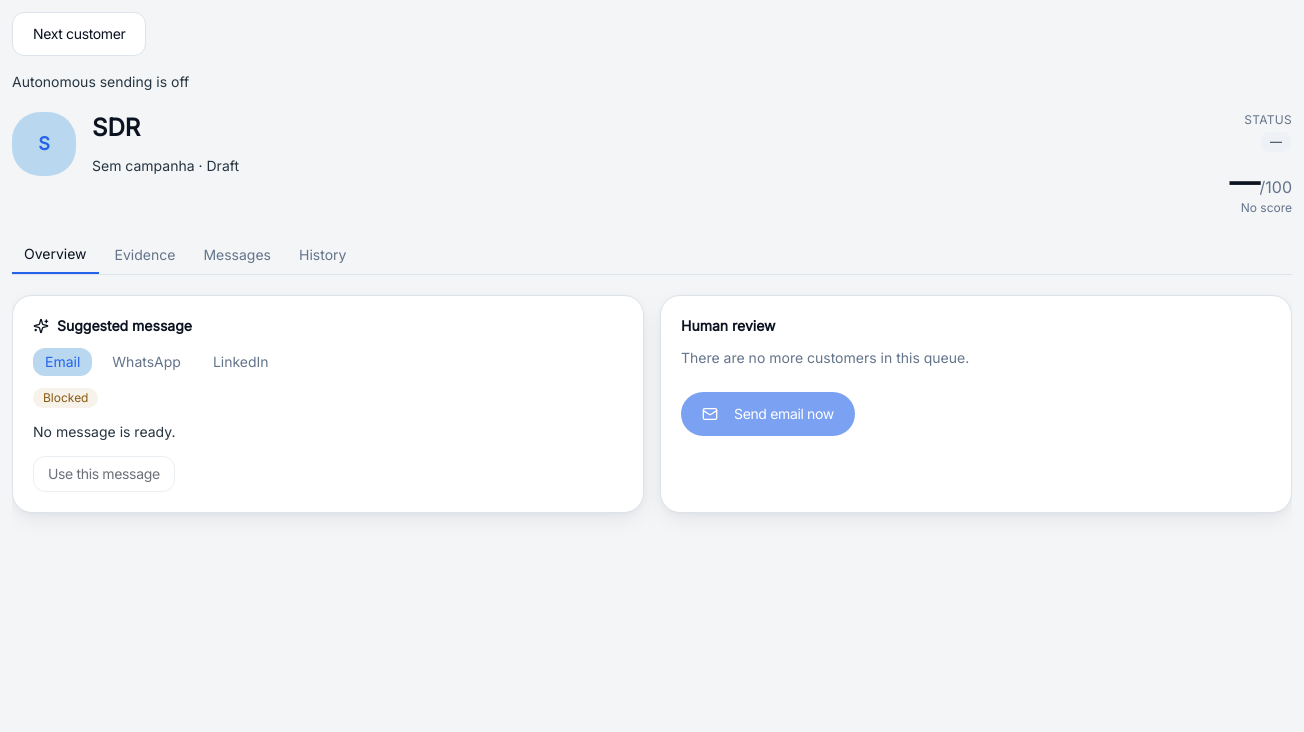
Test: SdrPage › displays the execution error when running the next customer fails in en
Click the button "Next customer" at {"x": 79, "y": 34}, box [12,12,146,56]
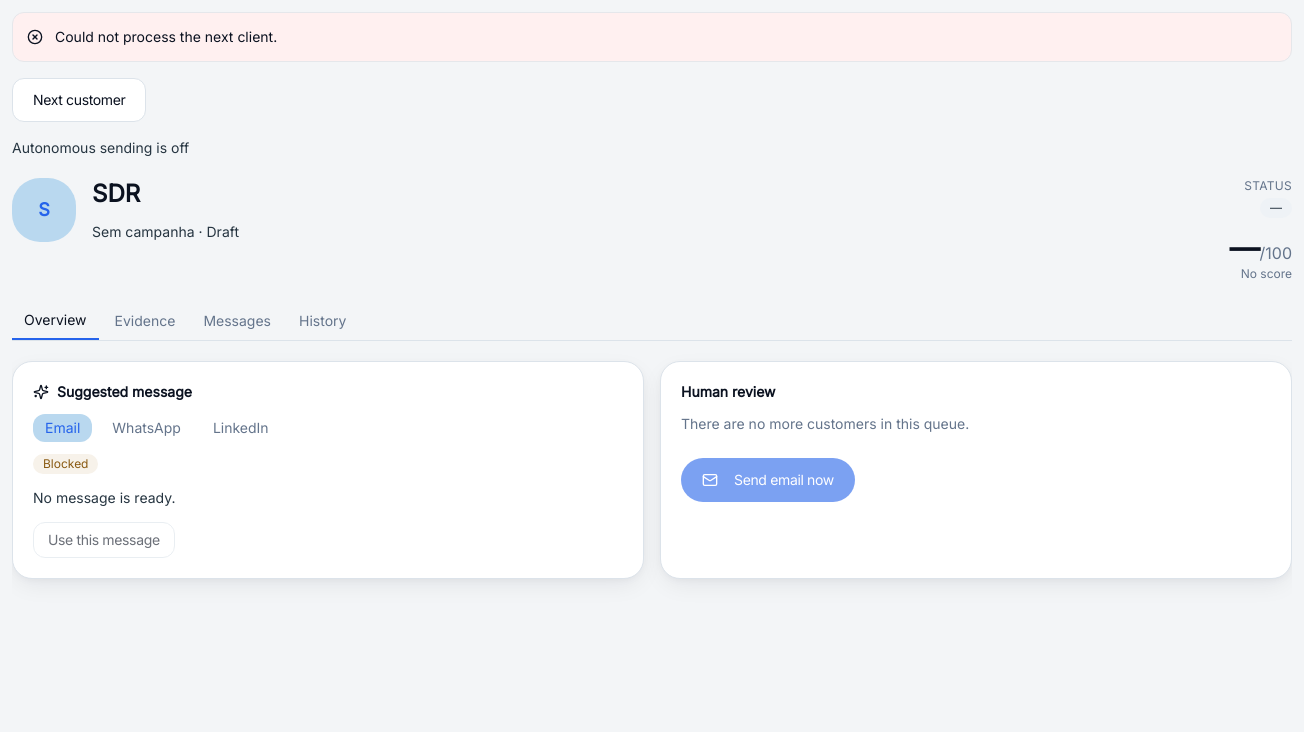
Result: the message shows "client" at [55,28,277,45]
Result: the message reads "Could not process the next client." at [55,28,277,45]
